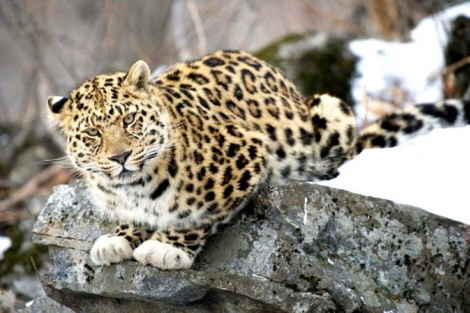amur_leopard: (39, 54, 440, 270)
